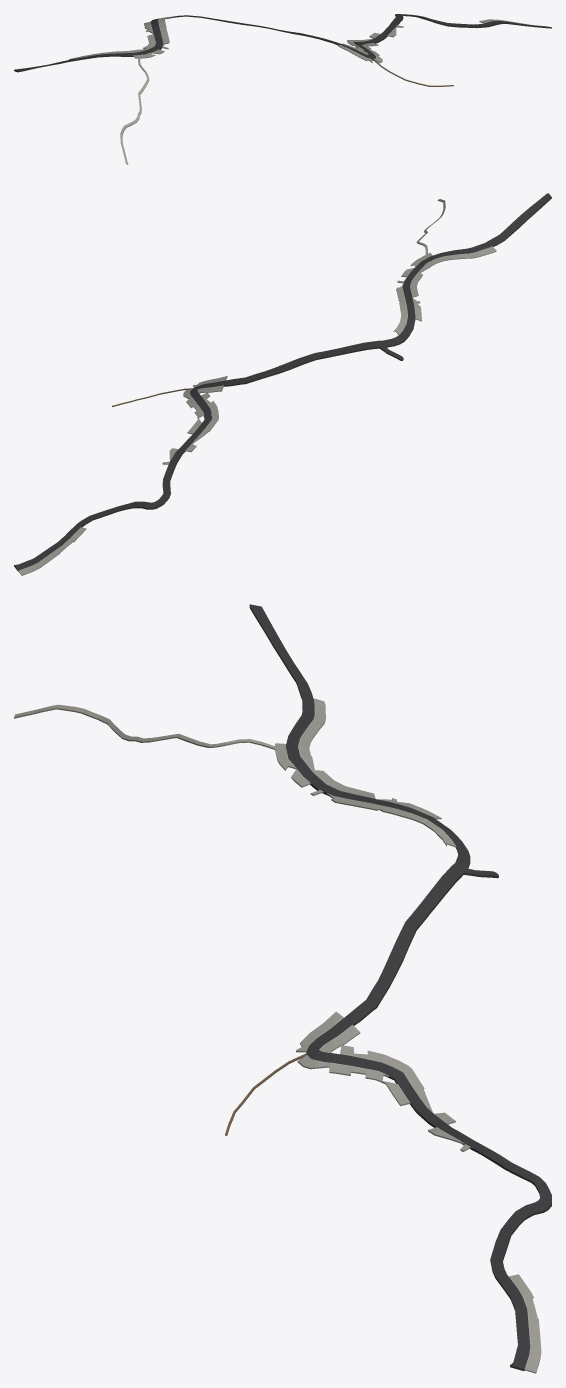
3 renders of one model, top to bottom at view 1: azimuth 30°, elevation 25°; view 2: azimuth 210°, elevation 25°; view 3: azimuth 270°, elevation 25°, orthographic. The views are drawn at different scales.
Bounding box in the file's own units: 586 × 155 × 271.
